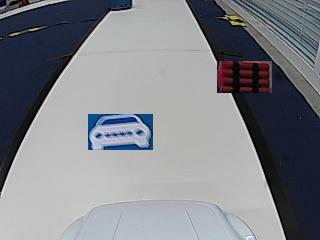prop: (111, 0, 131, 11)
